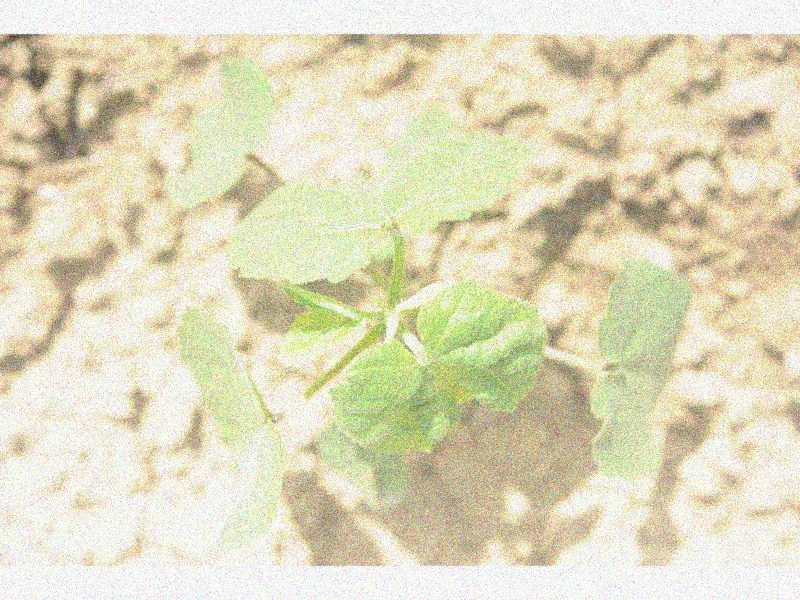velvet: (167, 58, 693, 540)
